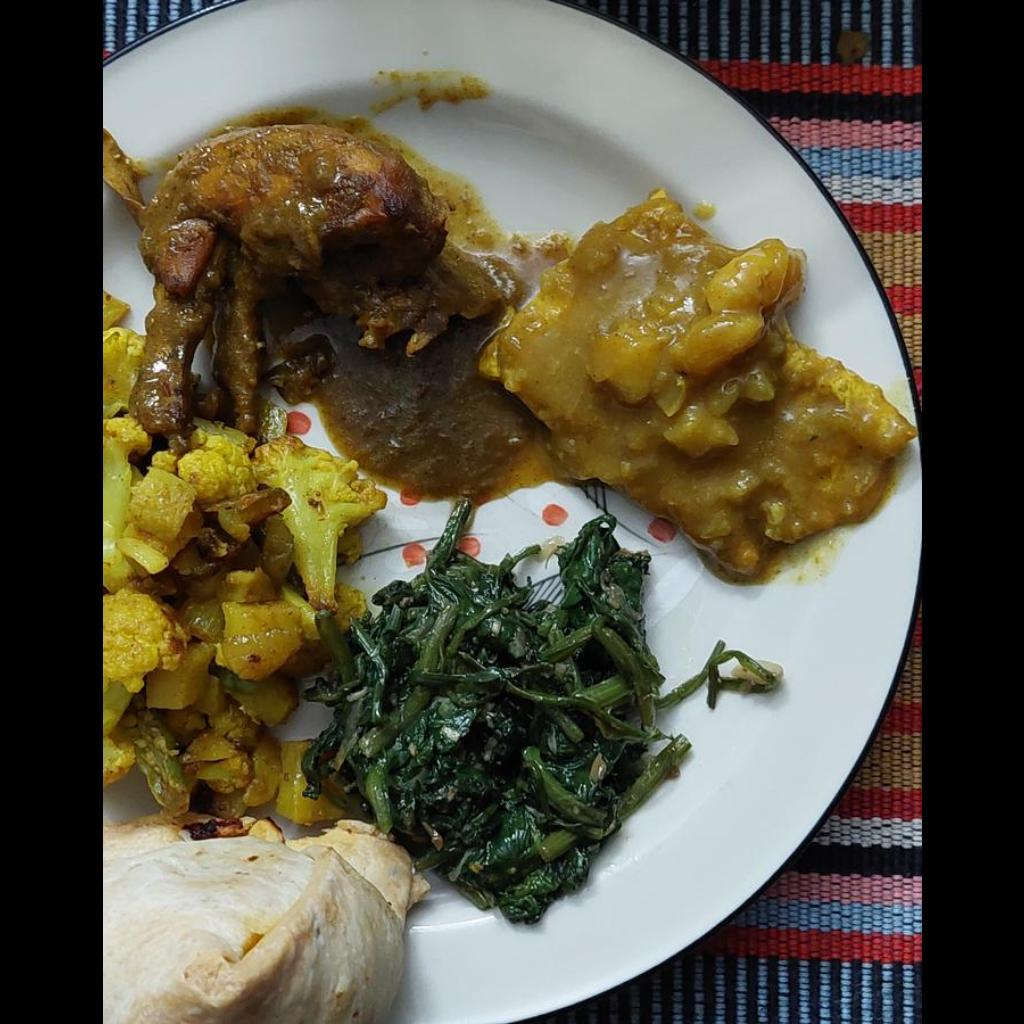chicken: (134, 122, 503, 427)
ruti: (102, 821, 426, 1023)
shak: (311, 511, 786, 932)
vaji: (102, 335, 389, 815)
vegetable: (481, 191, 913, 575)
